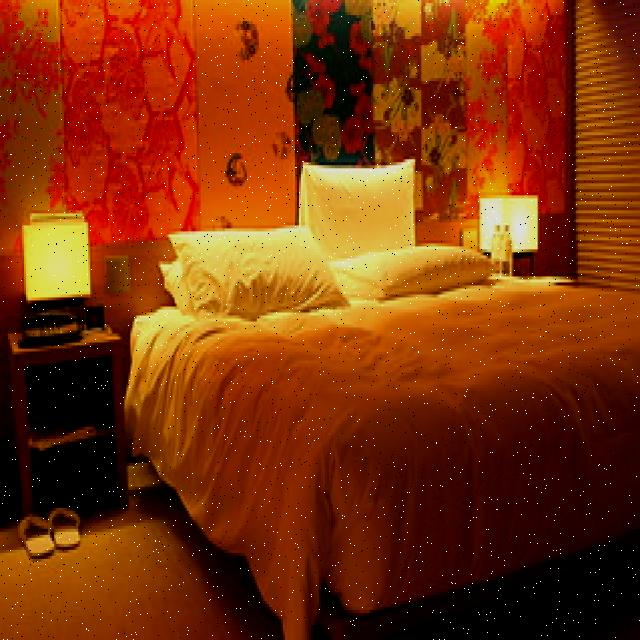bed: (125, 172, 640, 605)
